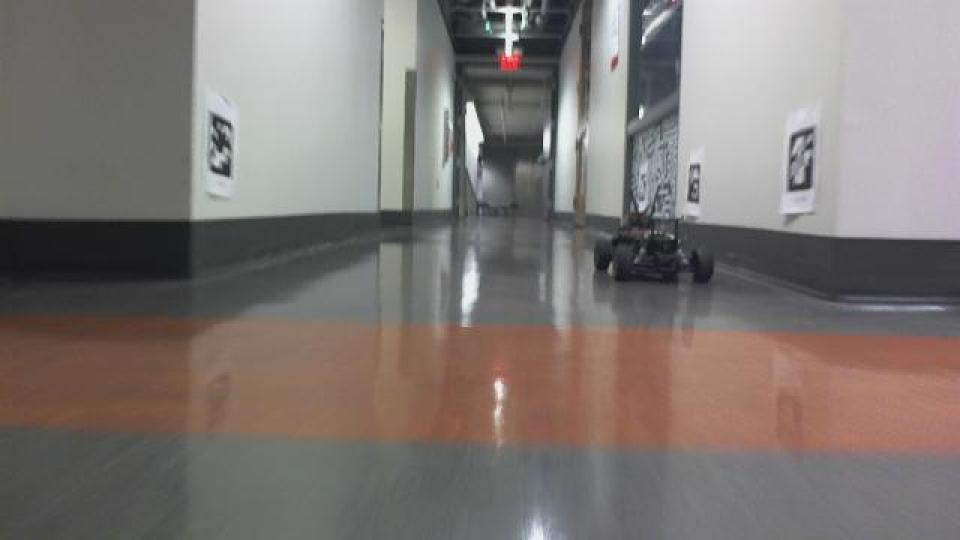car: (589, 207, 717, 288)
